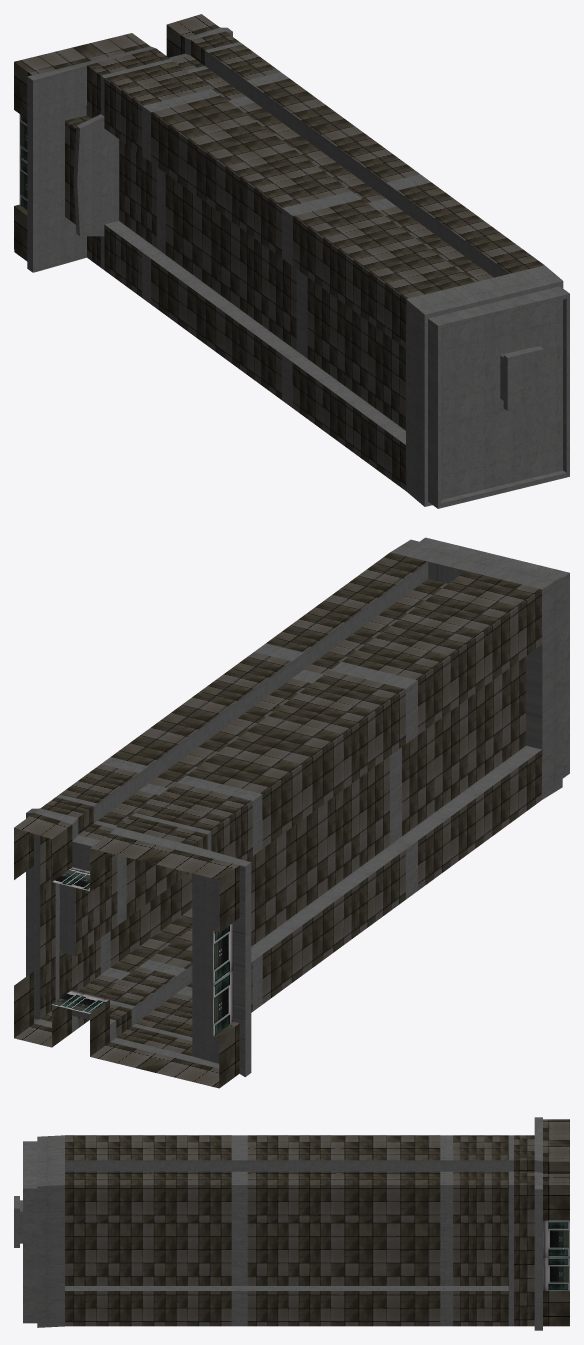
File: skyscraper_windowH_03.obj
3 renders of one model, top to bottom at view 1: azimuth 30°, elevation 25°; view 2: azimuth 150°, elevation 25°; view 3: azimuth 270°, elevation 25°, orthographic. The views are drawn at different scales.
Parts seen in each view (by area): view 1: Object27; view 2: Object27; view 3: Object27.
Part boxes in pixels (x1,y1,x2,y2): Object27: [14, 14, 569, 508]; Object27: [14, 537, 569, 1088]; Object27: [14, 1117, 569, 1330].
Bounding box in the file's own units: 44.55 × 41.32 × 146.
Materials: 3 (3 with a texture image).
